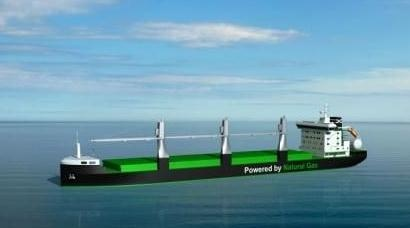Cargoship: (56, 104, 369, 187)
